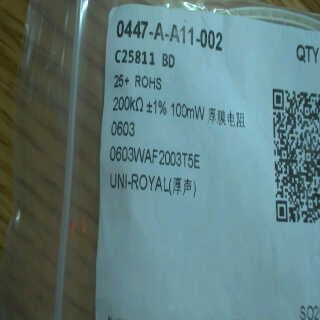200kR: (110, 94, 145, 114)
